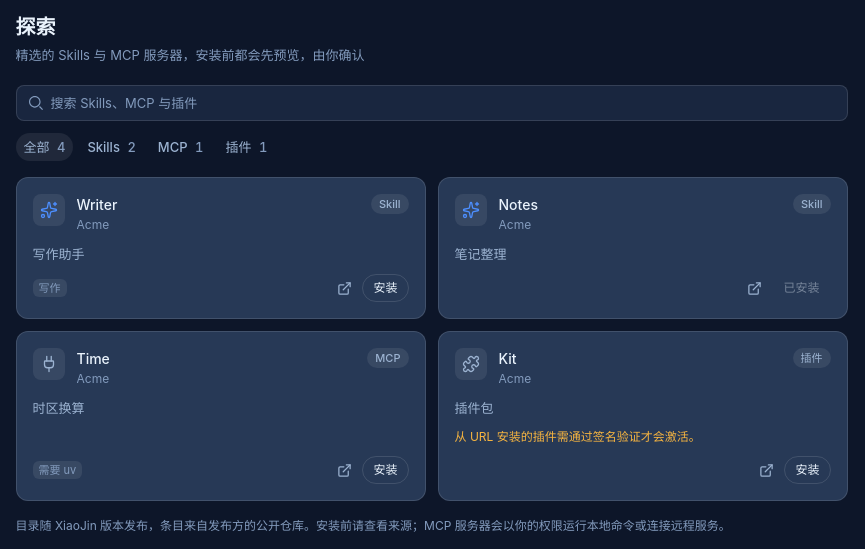
Test: ExplorePage › shows a no-match state for a search without results
The image size is (865, 549).
Type "nothing-matches" into the search field named "搜索探索目录" at (446, 103), box [50, 86, 840, 120]
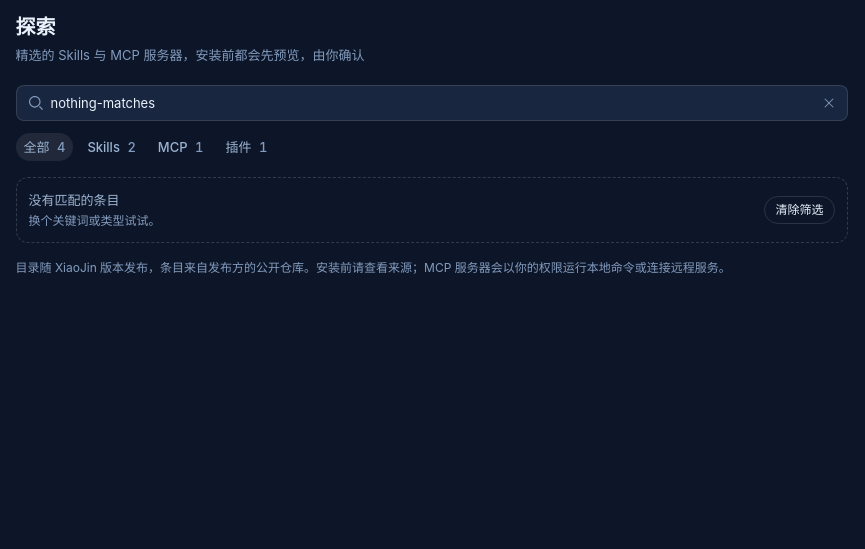
Result: the element with test id "explore-empty" shows "没有匹配的条目" at [28, 192, 120, 208]
